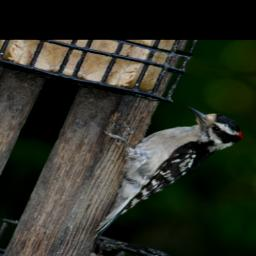Woodpecker: (58, 91, 250, 256)
